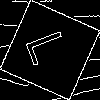L: (25, 25, 78, 67)
